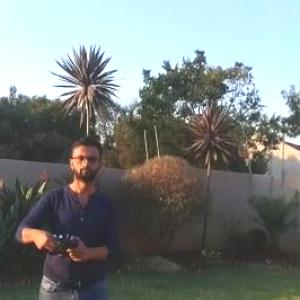follow: (11, 130, 130, 299)
